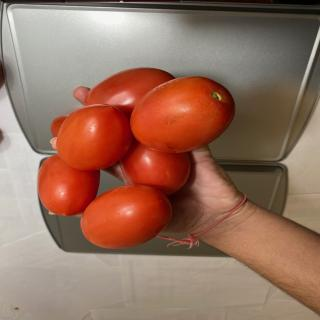Chilli: (37, 67, 236, 249)
Tomato: (130, 76, 236, 153), (80, 184, 173, 249), (56, 104, 133, 170), (83, 67, 176, 119), (120, 139, 190, 195), (37, 154, 100, 216), (50, 114, 70, 138)
